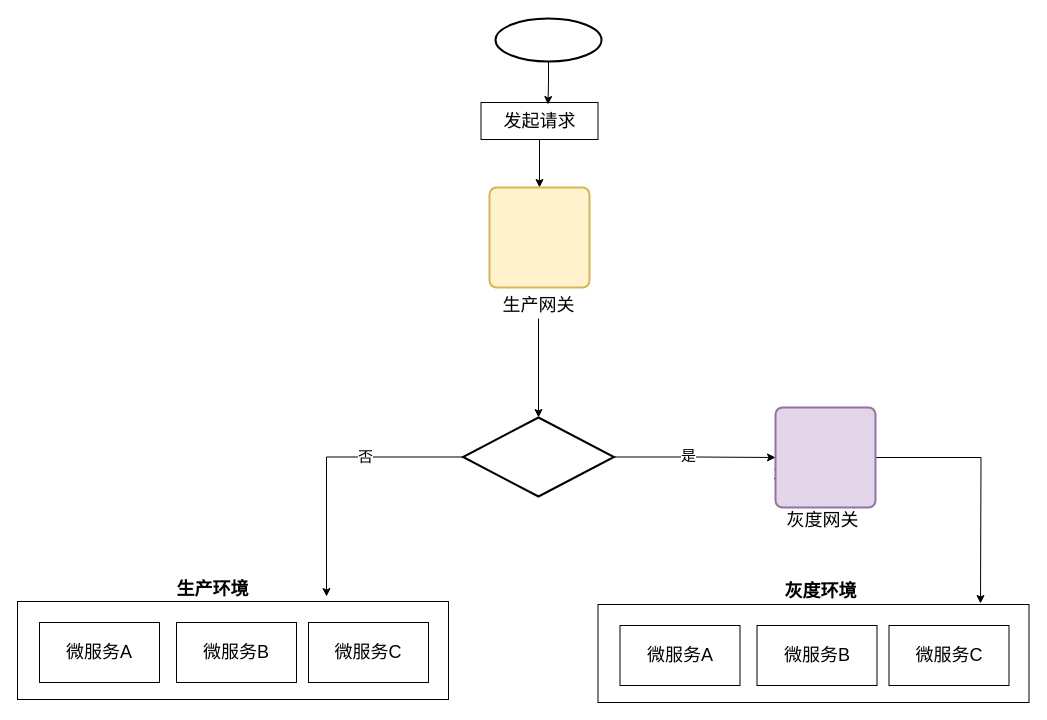
Some shapes in this 1047 by 720 pixel diagram are drawn without their labels. The box of each missing label's shape, as (x1, y1, x2, y2) in pixels:
开始: (494, 17, 602, 62)
满足灰度转发策略: (462, 416, 614, 497)
